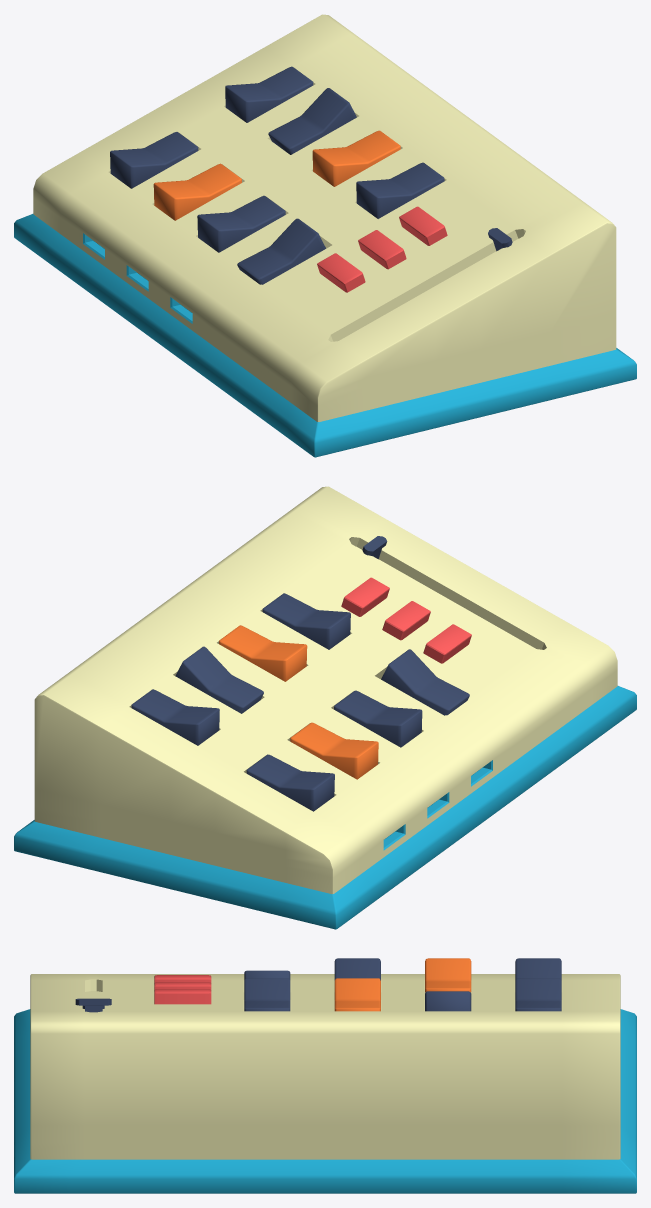
File: LightPanel.fbx
The picture shows the model from 3 angles, top to bottom: view 1: azimuth 30°, elevation 25°; view 2: azimuth 150°, elevation 25°; view 3: azimuth 270°, elevation 25°; orthographic projection. The views are drawn at different scales.
Parts seen in each view (by area): view 1: LightPanel, Cube.009, Cube.008, Cube.010, Cube.007, Cube.005, Cube.006, Cube.002, Cube.003, Cube.001; view 2: LightPanel, Cube.009, Cube.008, Cube.010, Cube.006, Cube.005, Cube.007, Cube.002, Cube.003, Cube.001; view 3: LightPanel, Cube.009, Cube.006, Cube.002, Cube.001, Cube.003, Cube.005, Cube.007, Cube.010, Cube.008.
Boxes of the visible parts, <box> form: LightPanel: <box>14,14,636,457</box>; Cube.009: <box>317,206,512,292</box>; Cube.008: <box>237,218,325,284</box>; Cube.010: <box>268,88,356,154</box>; Cube.007: <box>197,195,285,252</box>; Cube.005: <box>110,132,198,188</box>; Cube.006: <box>153,163,241,220</box>; Cube.002: <box>225,66,313,122</box>; Cube.003: <box>356,162,444,218</box>; Cube.001: <box>312,130,400,186</box>; LightPanel: <box>14,486,636,929</box>; Cube.009: <box>341,536,471,663</box>; Cube.008: <box>381,649,469,715</box>; Cube.010: <box>175,646,263,713</box>; Cube.006: <box>290,722,378,779</box>; Cube.005: <box>246,754,334,811</box>; Cube.007: <box>334,690,422,747</box>; Cube.002: <box>131,689,219,745</box>; Cube.003: <box>262,593,350,649</box>; Cube.001: <box>219,625,307,681</box>; LightPanel: <box>14,974,636,1193</box>; Cube.009: <box>75,975,211,1012</box>; Cube.006: <box>425,958,471,992</box>; Cube.002: <box>515,978,561,1011</box>; Cube.001: <box>334,978,380,1011</box>; Cube.003: <box>244,978,290,1011</box>; Cube.005: <box>515,958,561,980</box>; Cube.007: <box>334,958,380,980</box>; Cube.010: <box>425,991,471,1011</box>; Cube.008: <box>244,970,290,980</box>.
Size of the model in its own units: 23.54 by 10.89 by 38.01.
